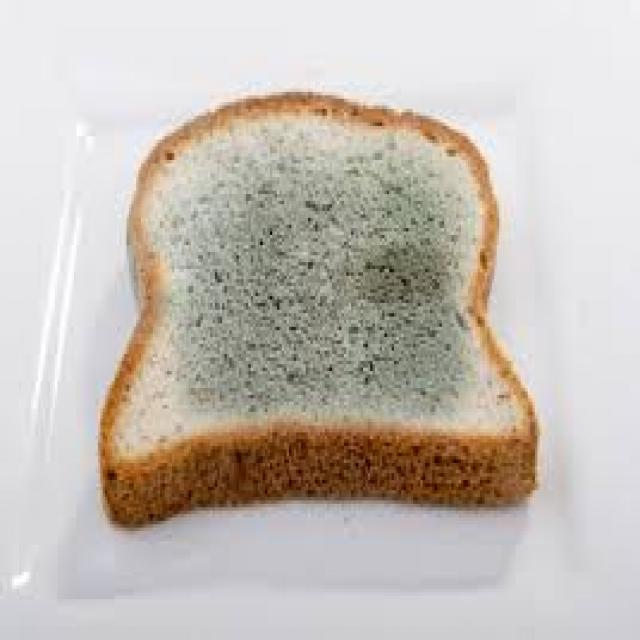organic waste: (95, 89, 535, 528)
